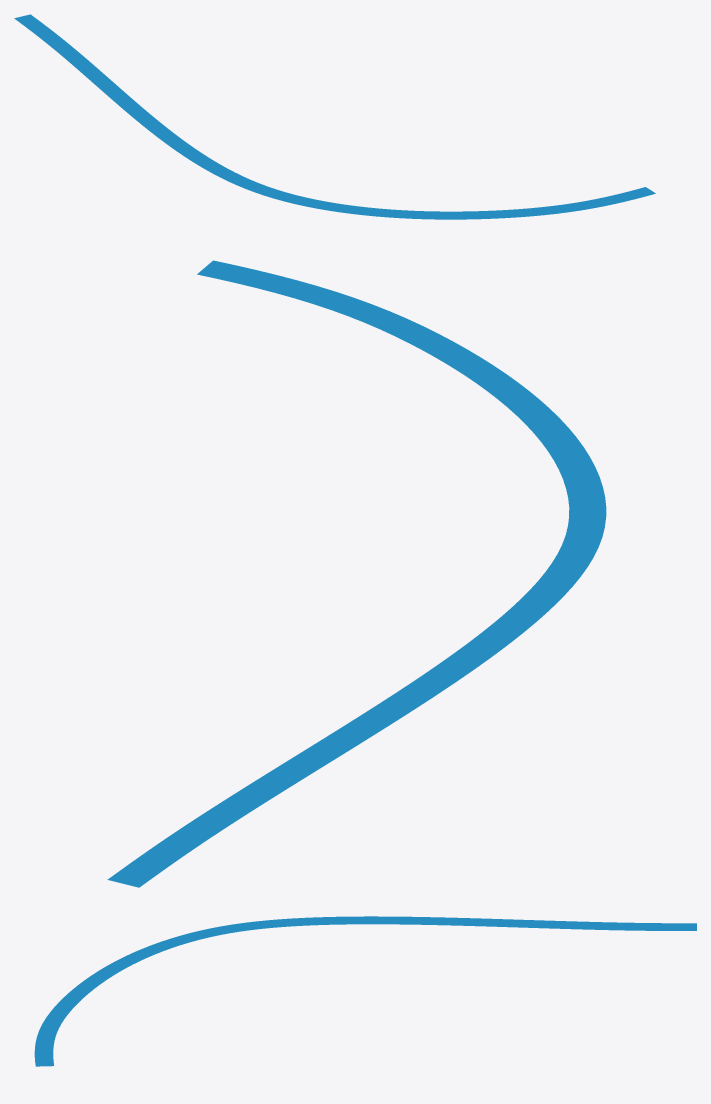
The model's file is guide.glb.
The picture shows the model from 3 angles, top to bottom: view 1: azimuth 30°, elevation 25°; view 2: azimuth 150°, elevation 25°; view 3: azimuth 270°, elevation 25°; orthographic projection. The views are drawn at different scales.
Visible parts, largest first — view 1: static; view 2: static; view 3: static.
Part boxes in pixels (bbox=[...]): static: bbox=[14, 14, 655, 219]; static: bbox=[107, 260, 606, 887]; static: bbox=[34, 916, 696, 1066].
Bounding box in the file's own units: 7.07 × 0 × 11.79.
